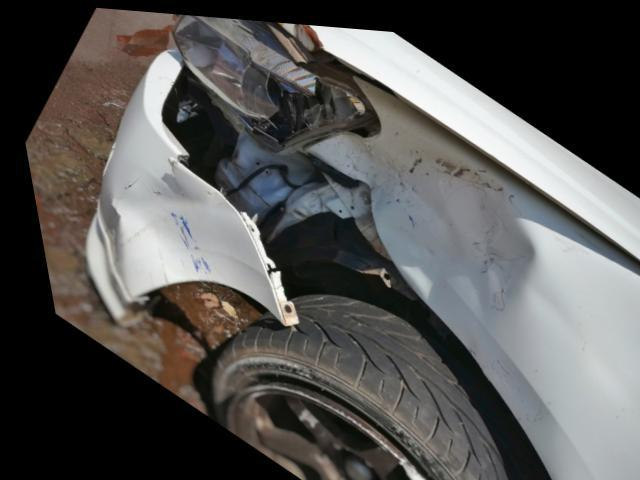dent: (305, 104, 527, 300), (101, 158, 271, 316), (282, 18, 320, 48)
dislocated part: (75, 32, 409, 323)
lamp broken: (175, 12, 369, 137)
